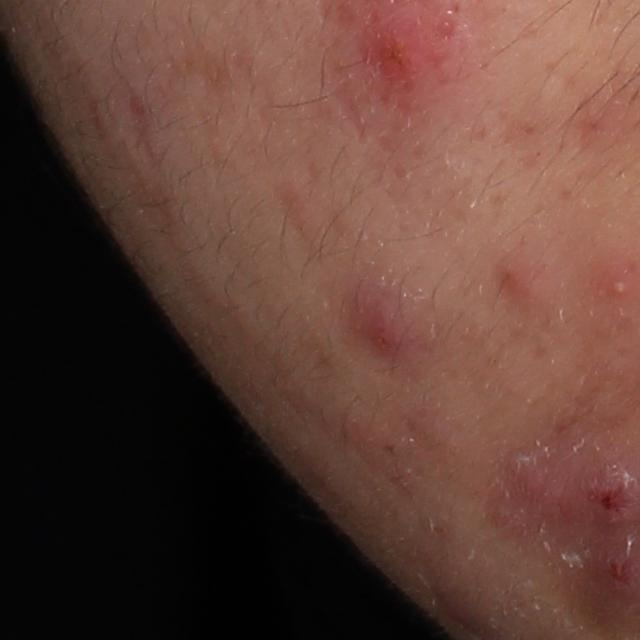atrophic_scar: (122, 85, 160, 172)
papule: (365, 6, 443, 87), (361, 309, 411, 358), (496, 252, 542, 305)
